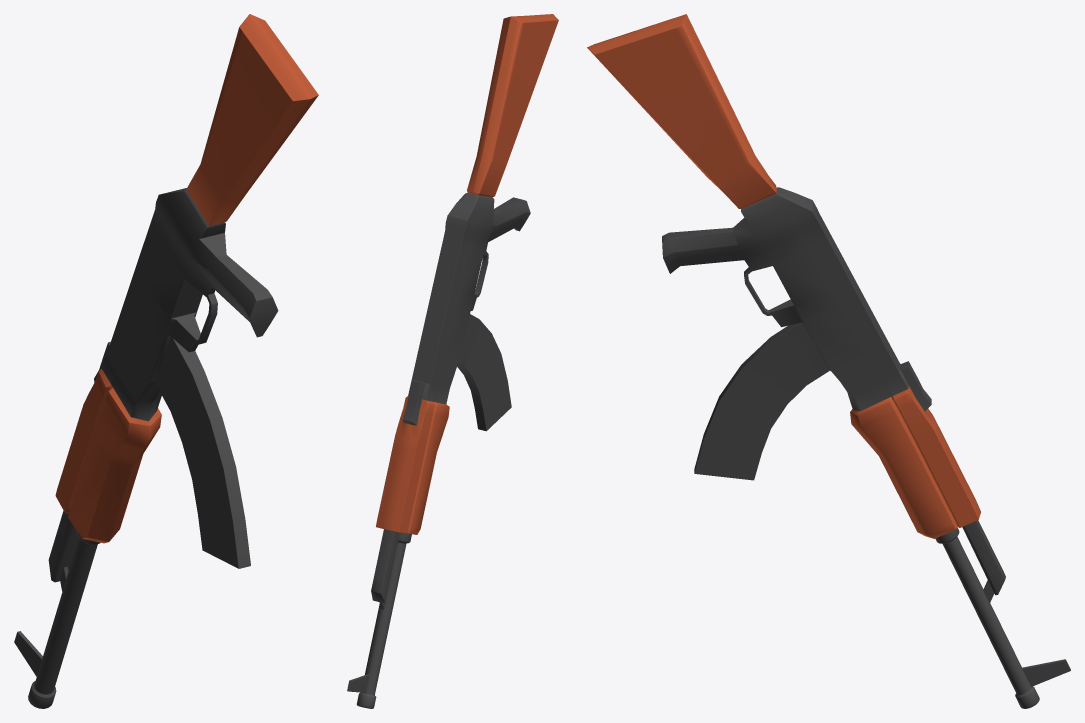
3 renders of one model, left to right at view 1: azimuth 30°, elevation 25°; view 2: azimuth 150°, elevation 25°; view 3: azimuth 270°, elevation 25°, orthographic. The views are drawn at different scales.
Parts seen in each view (by area): view 1: Ak47; view 2: Ak47; view 3: Ak47.
Boxes of the visible parts, bbox=[...] form: Ak47: bbox=[14, 14, 318, 708]; Ak47: bbox=[347, 14, 558, 708]; Ak47: bbox=[587, 14, 1070, 708].
Bounding box in the file's own units: 0.3627 × 8.11 × 5.13.
